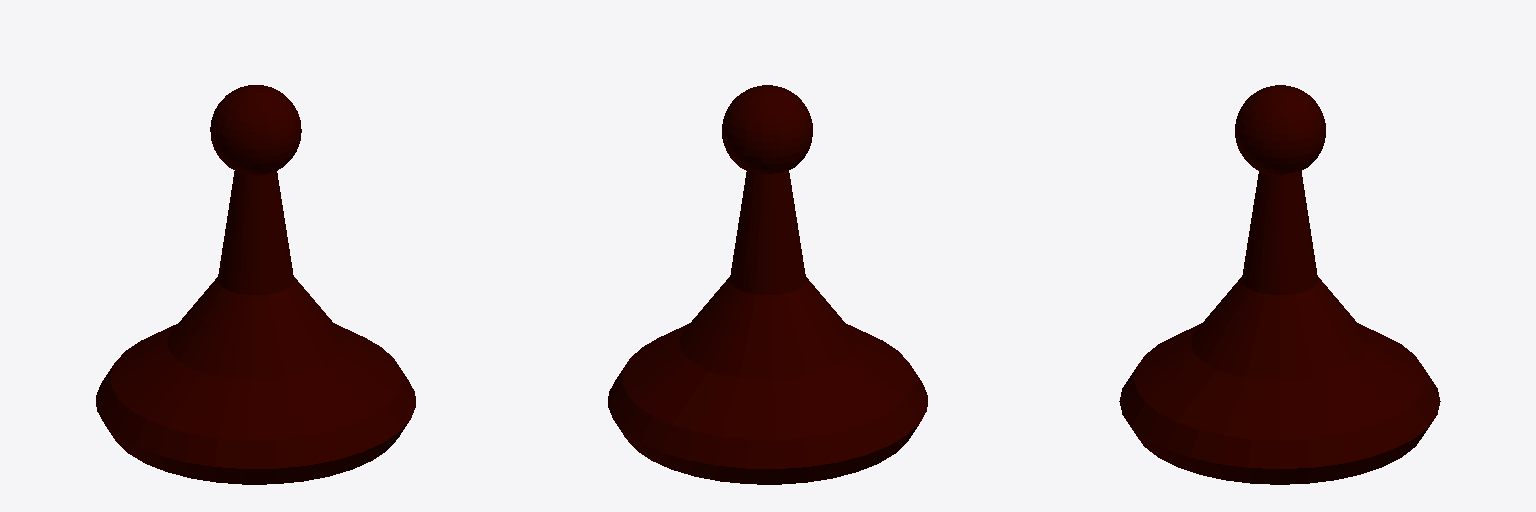
Rendered from pawn.obj.
The picture shows the model from 3 angles: view 1: azimuth 30°, elevation 25°; view 2: azimuth 150°, elevation 25°; view 3: azimuth 270°, elevation 25°; orthographic projection.
Parts seen in each view (by area): view 1: Sphere; view 2: Sphere; view 3: Sphere.
Part boxes in pixels (x1,y1,x2,y2): Sphere: (96, 85, 415, 484); Sphere: (608, 85, 927, 484); Sphere: (1119, 85, 1440, 484).
Bounding box in the file's own units: 1.93 × 2.21 × 1.93.